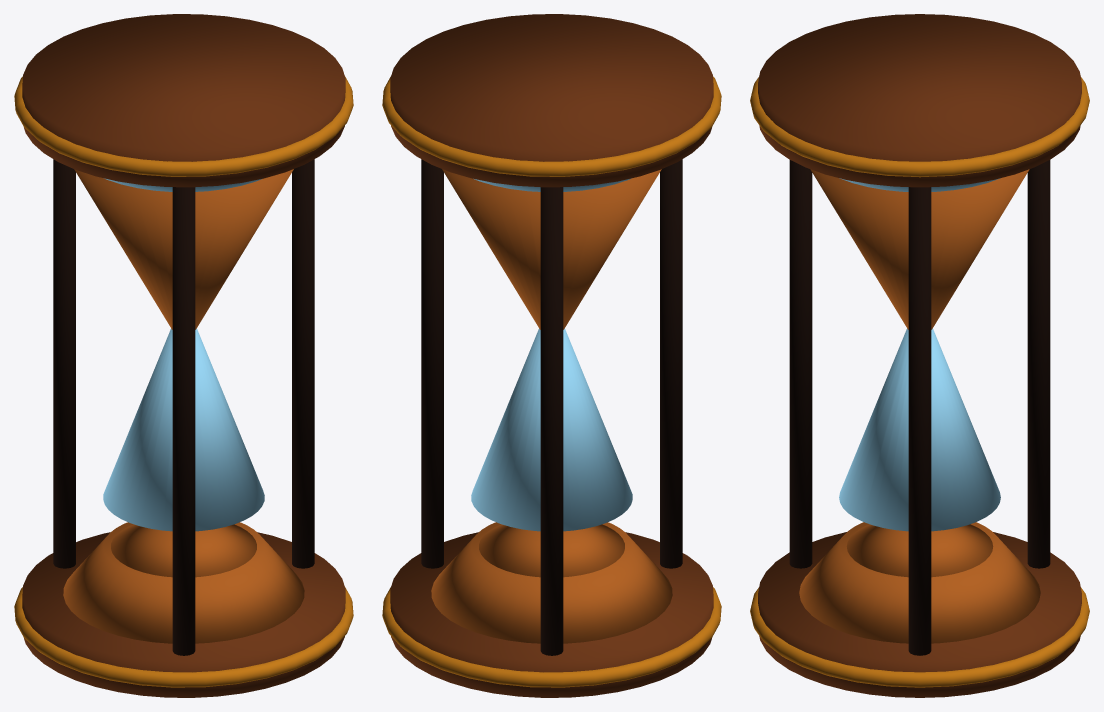
File: BeforeGTA6Hourglass.fbx
The picture shows the model from 3 angles, left to right: view 1: azimuth 30°, elevation 25°; view 2: azimuth 150°, elevation 25°; view 3: azimuth 270°, elevation 25°; orthographic projection.
Visible parts, largest first — view 1: BeforeGTA6Hourglass; view 2: BeforeGTA6Hourglass; view 3: BeforeGTA6Hourglass.
Boxes of the visible parts, box(x1,y1,x2,y2) form: BeforeGTA6Hourglass: box(14, 14, 353, 697); BeforeGTA6Hourglass: box(382, 14, 721, 697); BeforeGTA6Hourglass: box(750, 14, 1089, 697).
Size of the model in its own units: 2.1 by 3.73 by 2.1.
1 material, 1 textured.
